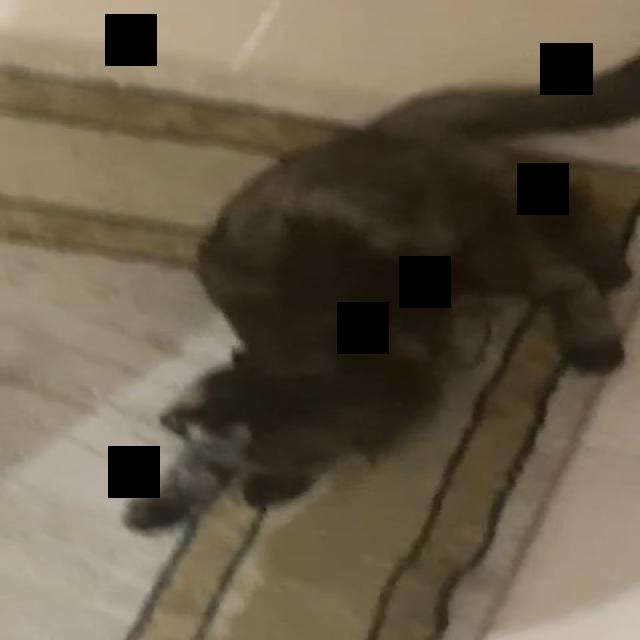authorized: (112, 49, 637, 638)
